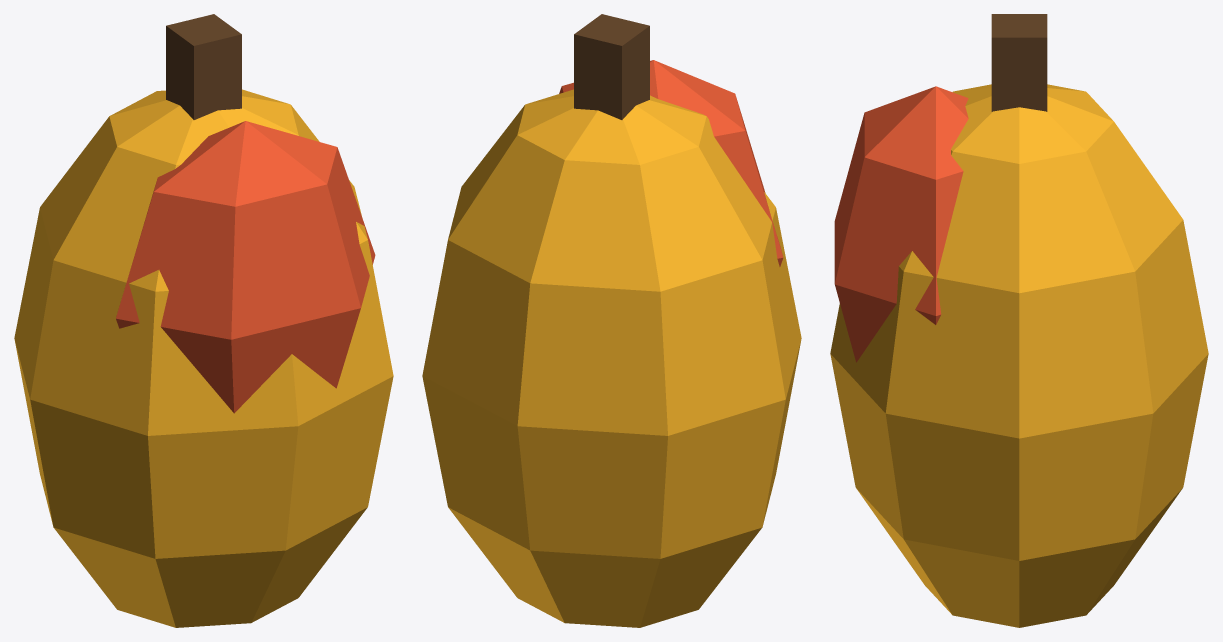
Rendered from mango.obj.
3 views of the same model, side by side, from view 1: azimuth 30°, elevation 25°; view 2: azimuth 150°, elevation 25°; view 3: azimuth 270°, elevation 25° (orthographic).
Parts seen in each view (by area): view 1: fruit; view 2: fruit; view 3: fruit.
Boxes of the visible parts, bbox=[...] form: fruit: bbox=[14, 14, 393, 627]; fruit: bbox=[422, 14, 801, 627]; fruit: bbox=[830, 14, 1208, 627].
Bounding box in the file's own units: 0.1446 × 0.2362 × 0.136.
